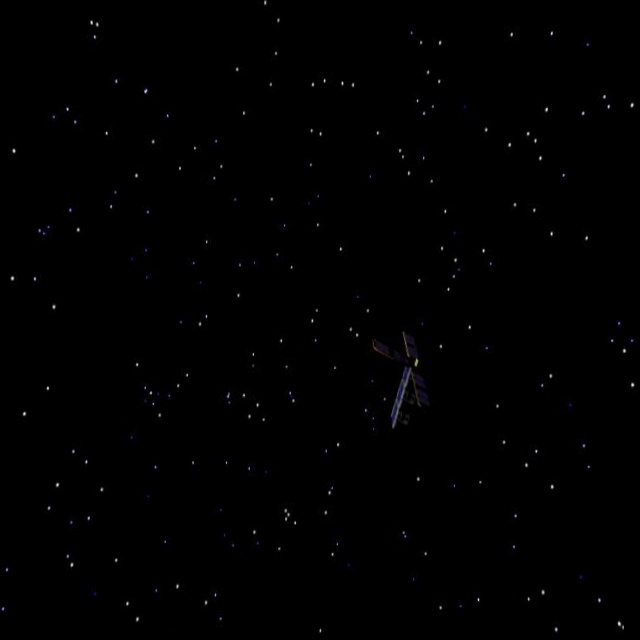satellite: (367, 323, 437, 445)
